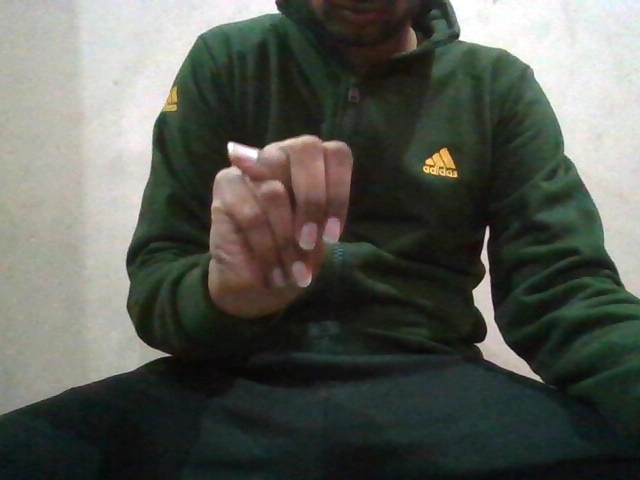N: (207, 130, 359, 308)
